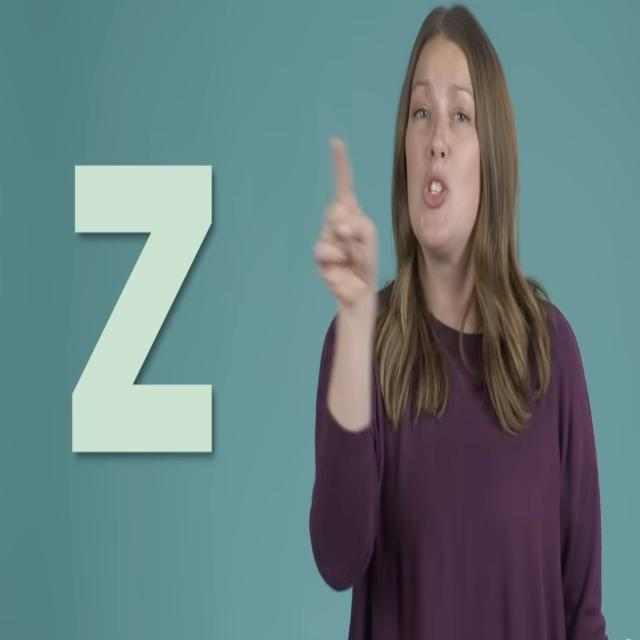Z: (307, 129, 392, 316)
